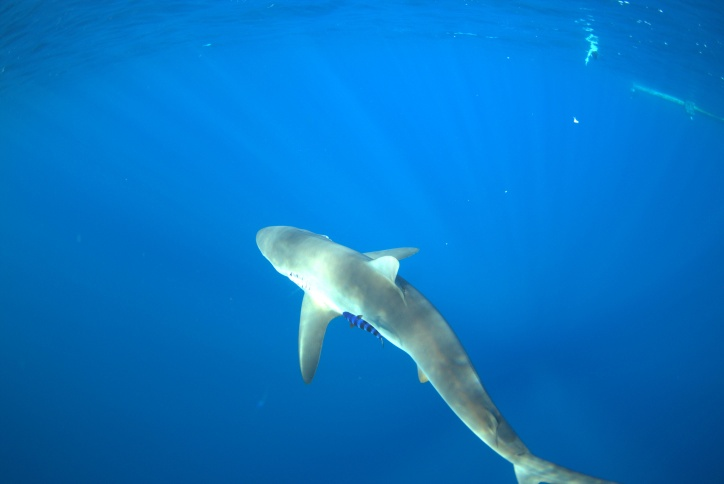Sedoso: (228, 201, 648, 484)
